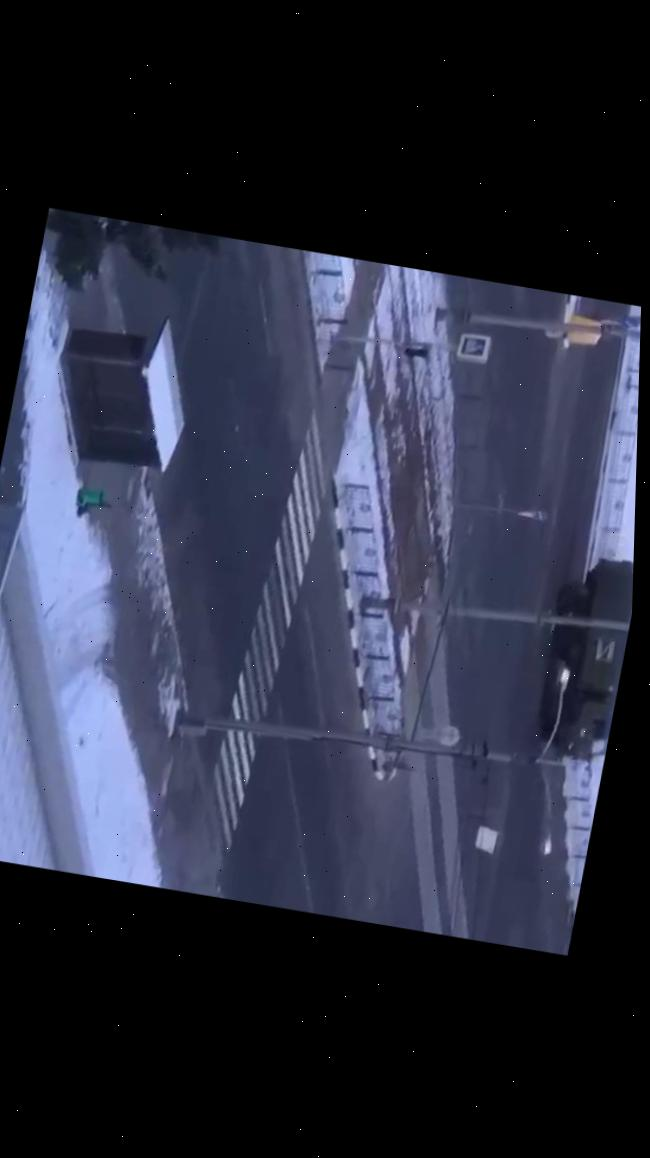truck: (526, 550, 634, 765)
